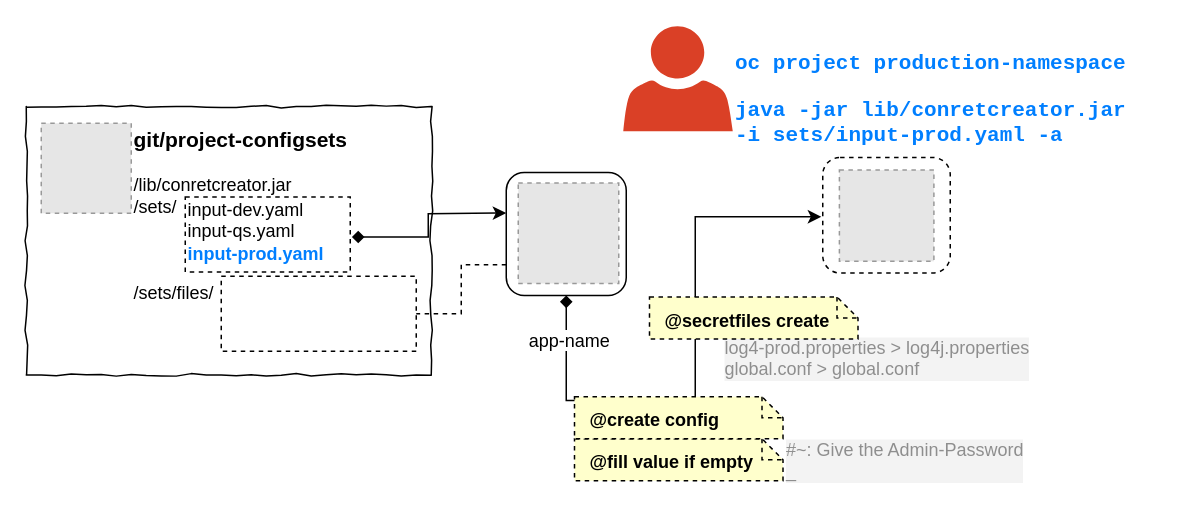
The diagram is 1179 pixels wide and 509 high, and some of its shapes have lost their labels. Grey dashed boxes stand in for pictures. Each missing label, with the centre of its shape:
log4-dev.properties log4-qs.properties log4-prod.properties: the point at 318,313
PROD: the point at 677,78
